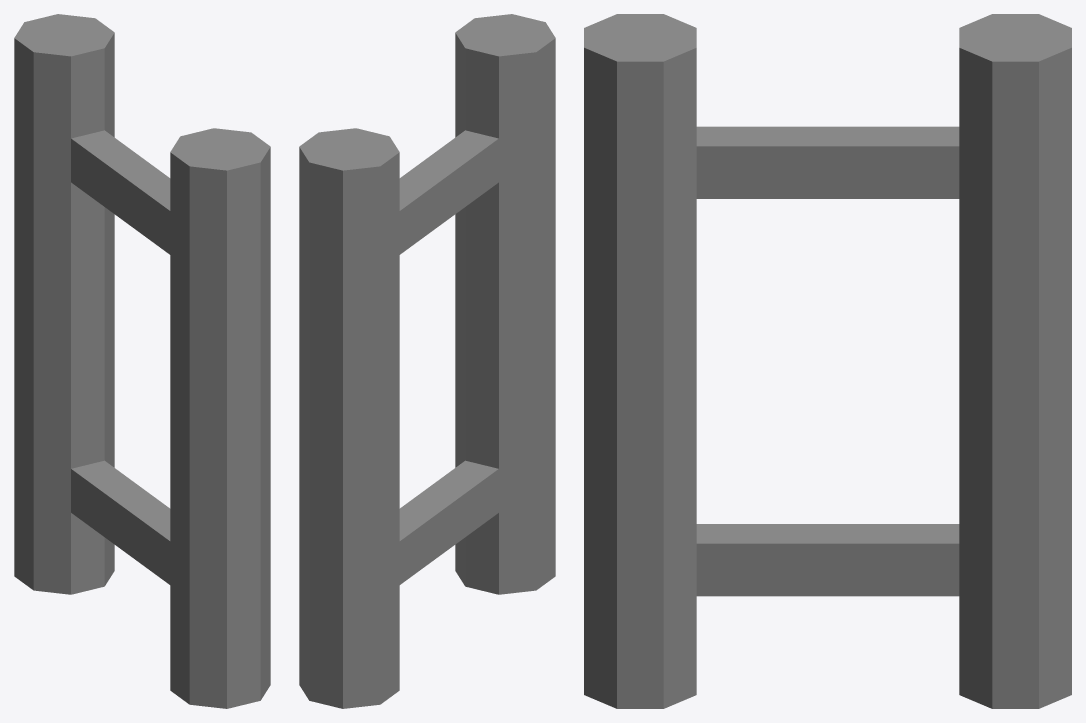
The model's file is Shower1_C1_02.fbx.
3 views of the same model, side by side, from view 1: azimuth 30°, elevation 25°; view 2: azimuth 150°, elevation 25°; view 3: azimuth 270°, elevation 25° (orthographic). The views are drawn at different scales.
Parts seen in each view (by area): view 1: Shower1_C1_02; view 2: Shower1_C1_02; view 3: Shower1_C1_02.
Part boxes in pixels (x1=…): Shower1_C1_02: x1=14, y1=14, x2=270, y2=708; Shower1_C1_02: x1=299, y1=14, x2=555, y2=708; Shower1_C1_02: x1=584, y1=14, x2=1071, y2=708.
Bounding box in the file's own units: 3.26 × 20.66 × 14.11.
